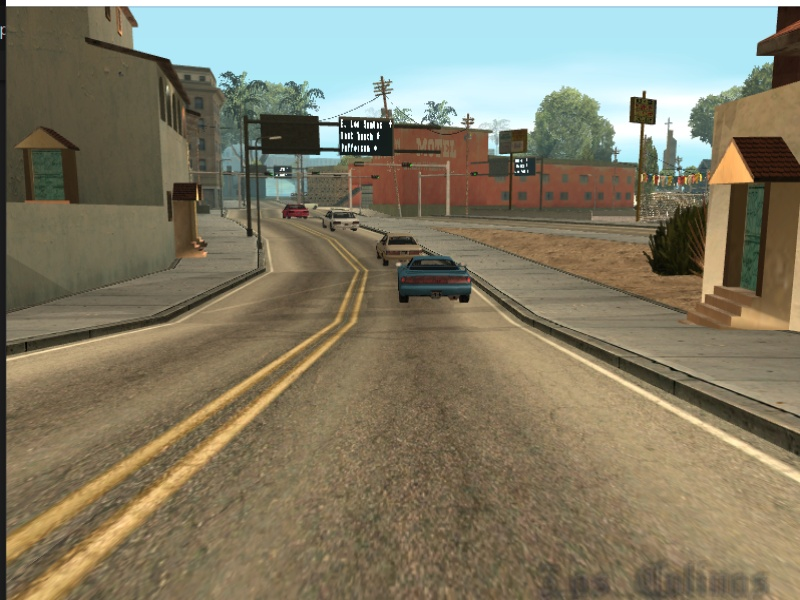pole: (251, 142, 267, 252), (242, 120, 256, 242), (440, 163, 454, 216)
vehicle: (397, 253, 476, 311), (375, 230, 418, 263), (319, 208, 362, 235), (281, 201, 307, 222)
